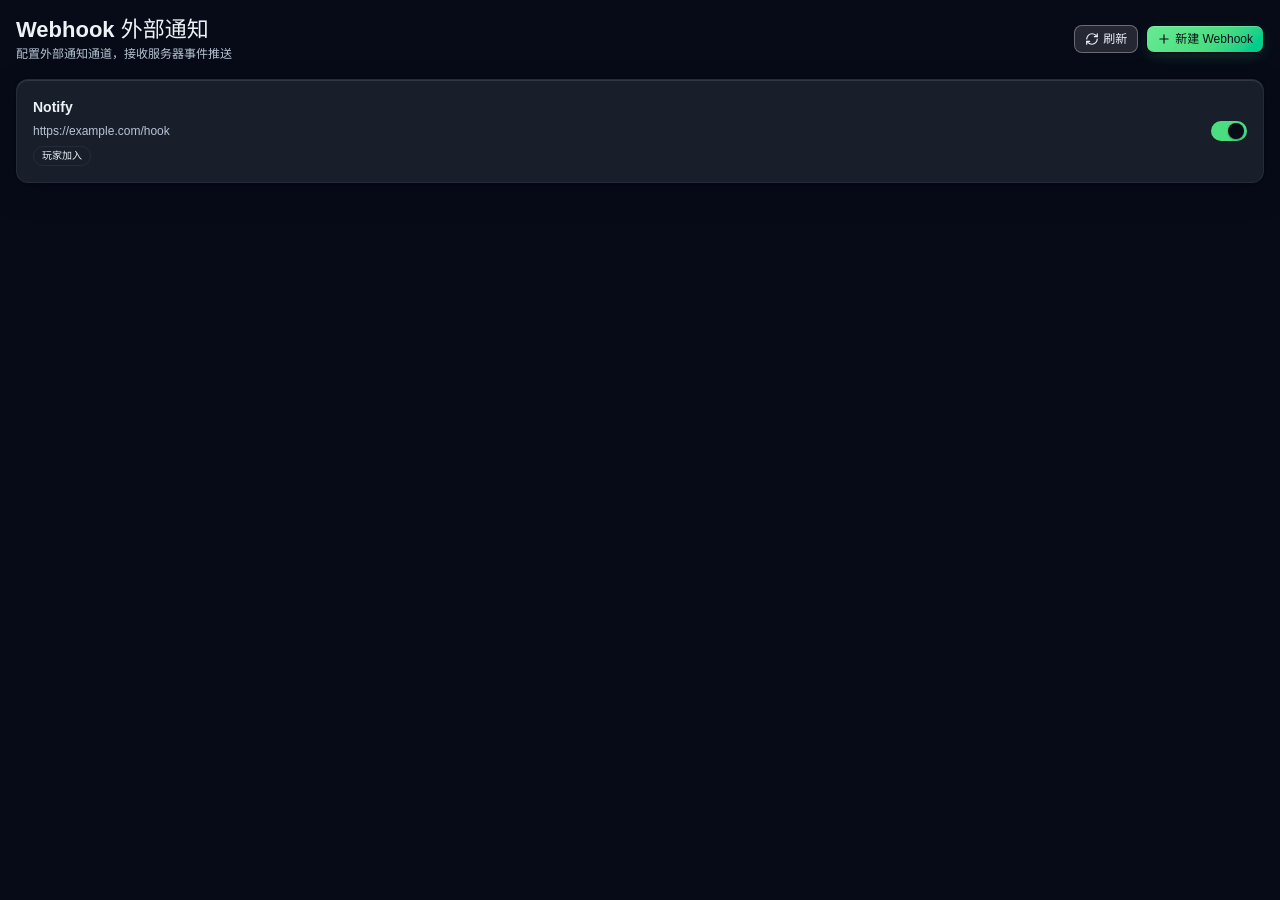
Test case: 设置弹窗：投递日志（发送内容 + 响应内容） › payload 为 null → 无发送内容；响应体为空 → 无响应体提示
The width and height of the screenshot is (1280, 900).
Click the button with aria-label "设置 Notify": [53, 107] box [33,92,1199,170]
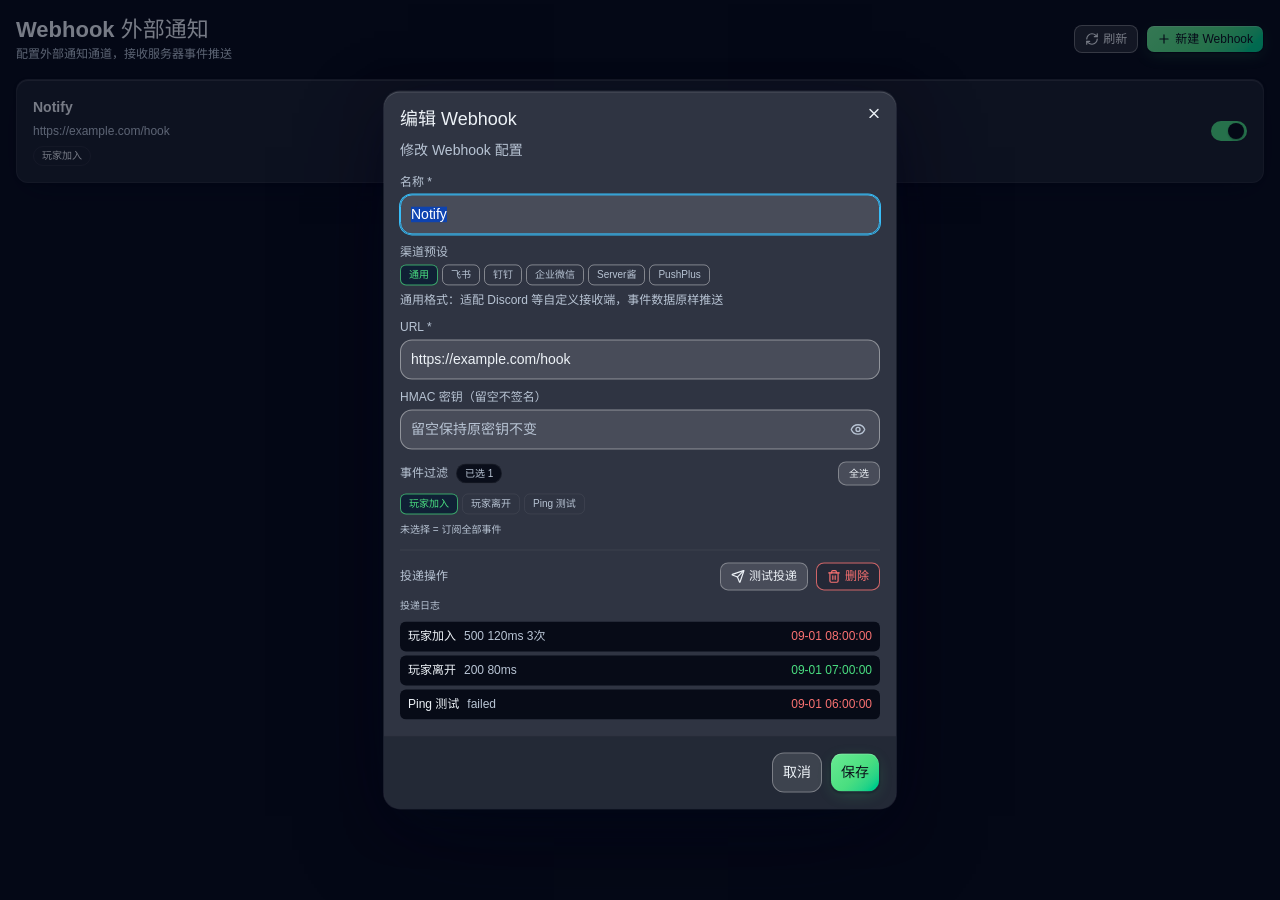
Click the button "Ping 测试": [434, 705] box [400,690,880,720]
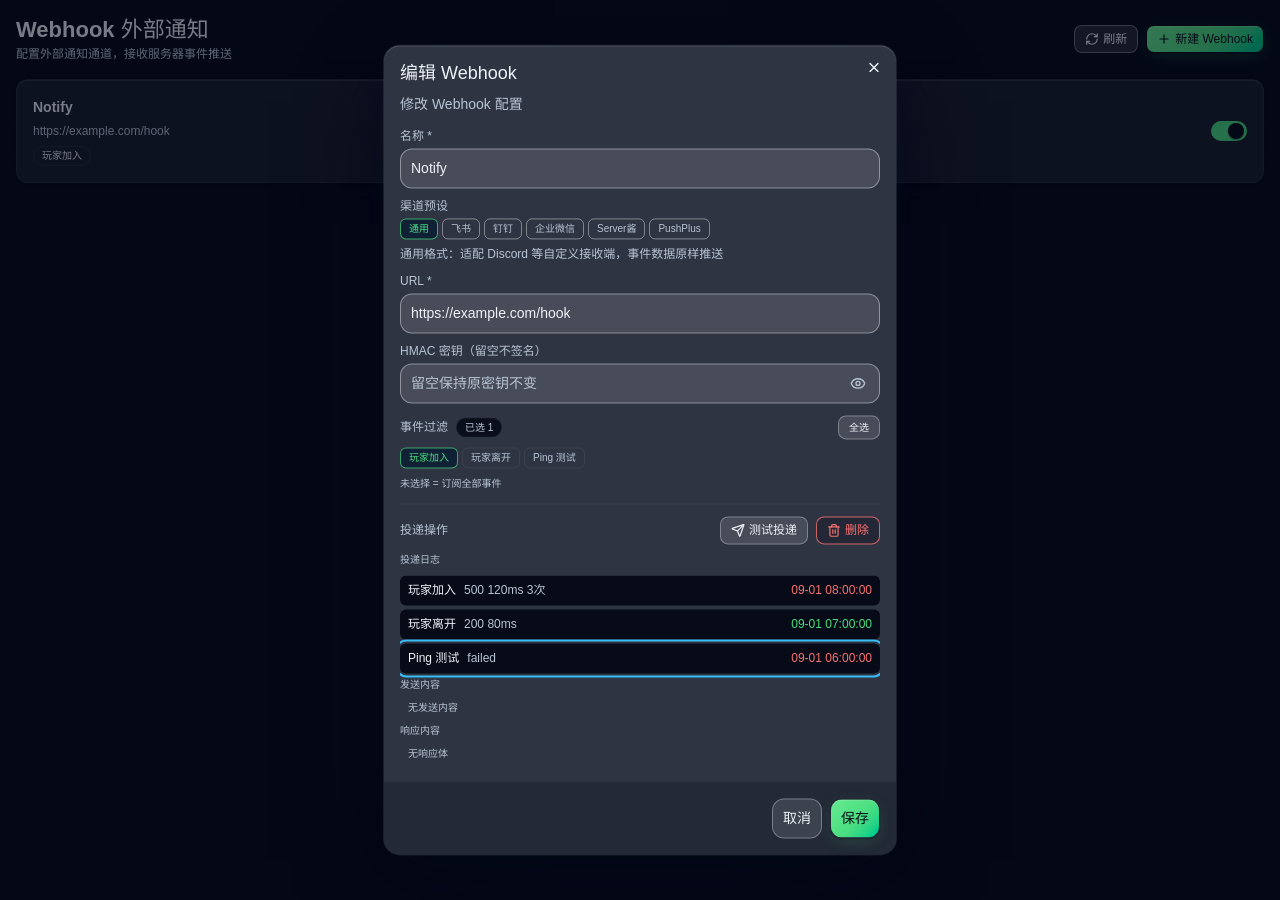
Now the text with test id "delivery-payload-13" reads "无发送内容", box [408,703,458,714]
Now the text with test id "delivery-response-13" reads "无响应体", box [408,749,448,760]
